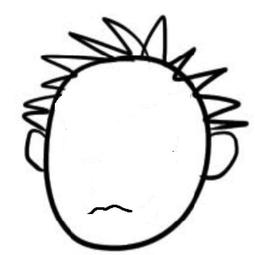ear: (200, 129, 241, 183), (21, 128, 57, 175)
line_unsmiling_mouth: (82, 194, 139, 221)
